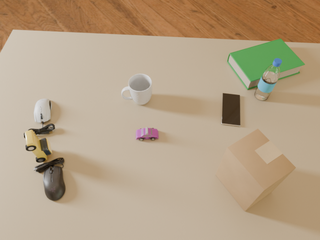book: (227, 39, 305, 90)
bottle: (255, 58, 282, 100)
box: (216, 129, 296, 211)
cup: (122, 74, 152, 105)
mouse: (34, 158, 65, 201), (34, 99, 52, 124)
phone: (221, 93, 240, 126)
toy_car: (24, 130, 52, 162), (136, 127, 158, 141)
